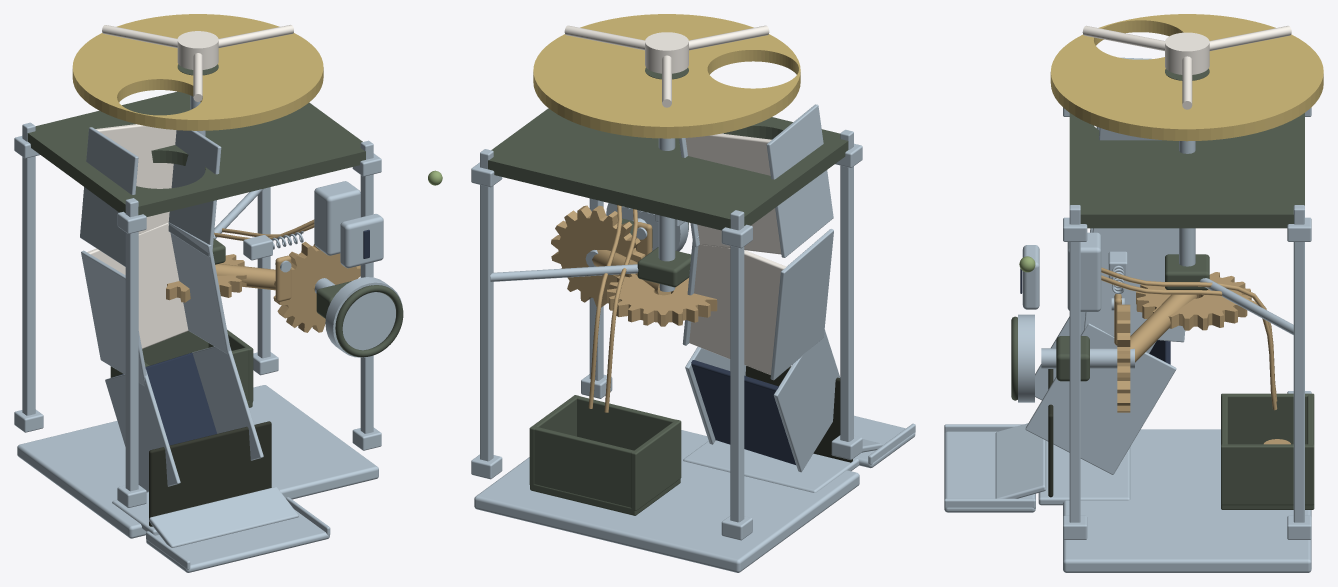
The model's file is machine-garden-core.glb.
The picture shows the model from 3 angles, left to right: view 1: azimuth 30°, elevation 25°; view 2: azimuth 150°, elevation 25°; view 3: azimuth 270°, elevation 25°; orthographic projection. The views are drawn at different scales.
Parts seen in each view (by area): view 1: PaperCapsuleMachine_Batch0, PaperCapsuleMachine_Batch1, MeteringDisc_Batch0, OutletFlap_Batch0, DriveGear_Batch0, Stirrer_Batch0, BevelGear_Batch0, LockPawl_Batch0; view 2: PaperCapsuleMachine_Batch0, PaperCapsuleMachine_Batch1, MeteringDisc_Batch0, DriveGear_Batch0, Stirrer_Batch0, BevelGear_Batch0, OutletFlap_Batch0, Spindle_Batch0; view 3: PaperCapsuleMachine_Batch0, PaperCapsuleMachine_Batch1, MeteringDisc_Batch0, Stirrer_Batch0, BevelGear_Batch0, DriveGear_Batch0, Spindle_Batch0, OutletFlap_Batch0.
Part boxes in pixels (bbox=[...]): PaperCapsuleMachine_Batch0: bbox=[14, 122, 402, 572]; PaperCapsuleMachine_Batch1: bbox=[27, 91, 442, 445]; MeteringDisc_Batch0: bbox=[72, 14, 323, 130]; OutletFlap_Batch0: bbox=[149, 421, 271, 526]; DriveGear_Batch0: bbox=[273, 241, 360, 332]; Stirrer_Batch0: bbox=[102, 25, 293, 101]; BevelGear_Batch0: bbox=[166, 254, 246, 302]; LockPawl_Batch0: bbox=[275, 255, 291, 301]; PaperCapsuleMachine_Batch0: bbox=[471, 104, 915, 572]; PaperCapsuleMachine_Batch1: bbox=[488, 108, 848, 515]; MeteringDisc_Batch0: bbox=[533, 14, 800, 138]; DriveGear_Batch0: bbox=[551, 205, 645, 307]; Stirrer_Batch0: bbox=[564, 25, 769, 107]; BevelGear_Batch0: bbox=[607, 273, 717, 326]; OutletFlap_Batch0: bbox=[745, 366, 852, 462]; Spindle_Batch0: bbox=[658, 138, 675, 291]; PaperCapsuleMachine_Batch0: bbox=[944, 57, 1311, 572]; PaperCapsuleMachine_Batch1: bbox=[1011, 113, 1314, 509]; MeteringDisc_Batch0: bbox=[1050, 14, 1323, 141]; Stirrer_Batch0: bbox=[1082, 25, 1291, 109]; BevelGear_Batch0: bbox=[1136, 272, 1251, 330]; DriveGear_Batch0: bbox=[1117, 304, 1130, 412]; Spindle_Batch0: bbox=[1179, 141, 1195, 266]; OutletFlap_Batch0: bbox=[1048, 369, 1053, 497].
Size of the model in its own units: 0.1998 by 0.275 by 0.203.
